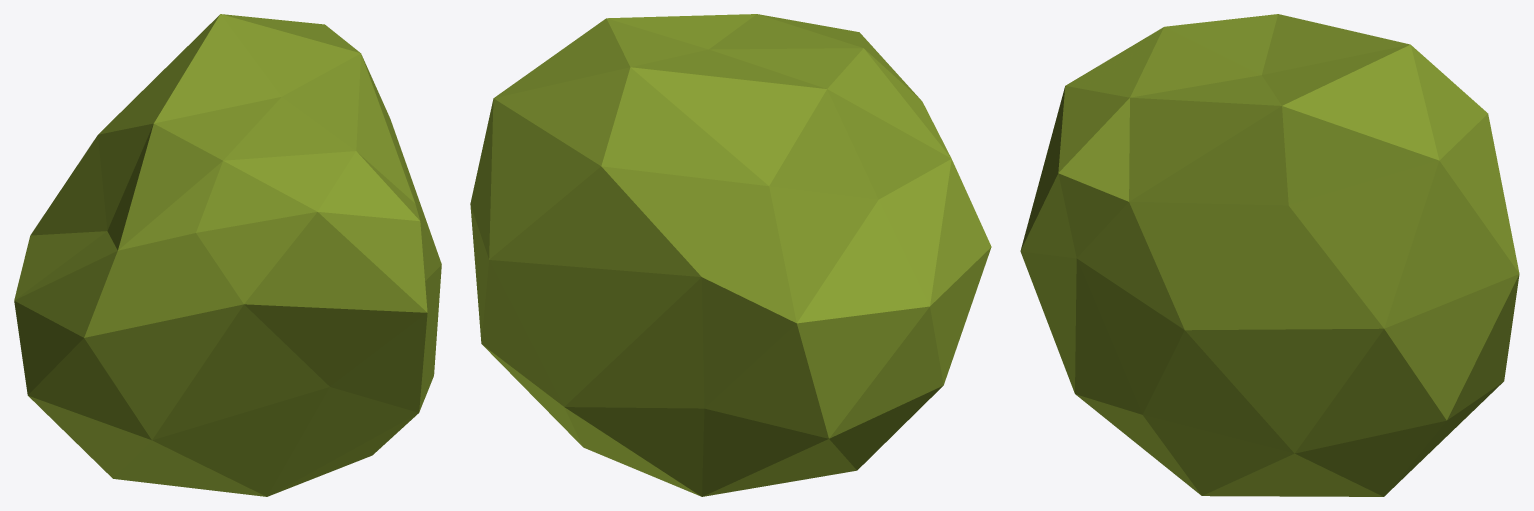
Rendered from Bush.001.fbx.
3 renders of one model, left to right at view 1: azimuth 30°, elevation 25°; view 2: azimuth 150°, elevation 25°; view 3: azimuth 270°, elevation 25°, orthographic. The views are drawn at different scales.
Visible parts, largest first — view 1: Bush.001; view 2: Bush.001; view 3: Bush.001.
Part boxes in pixels (<box>): Bush.001: <box>14,14,441,496</box>; Bush.001: <box>470,14,991,496</box>; Bush.001: <box>1020,14,1519,496</box>.
Size of the model in its own units: 1.79 by 1.62 by 1.72.
